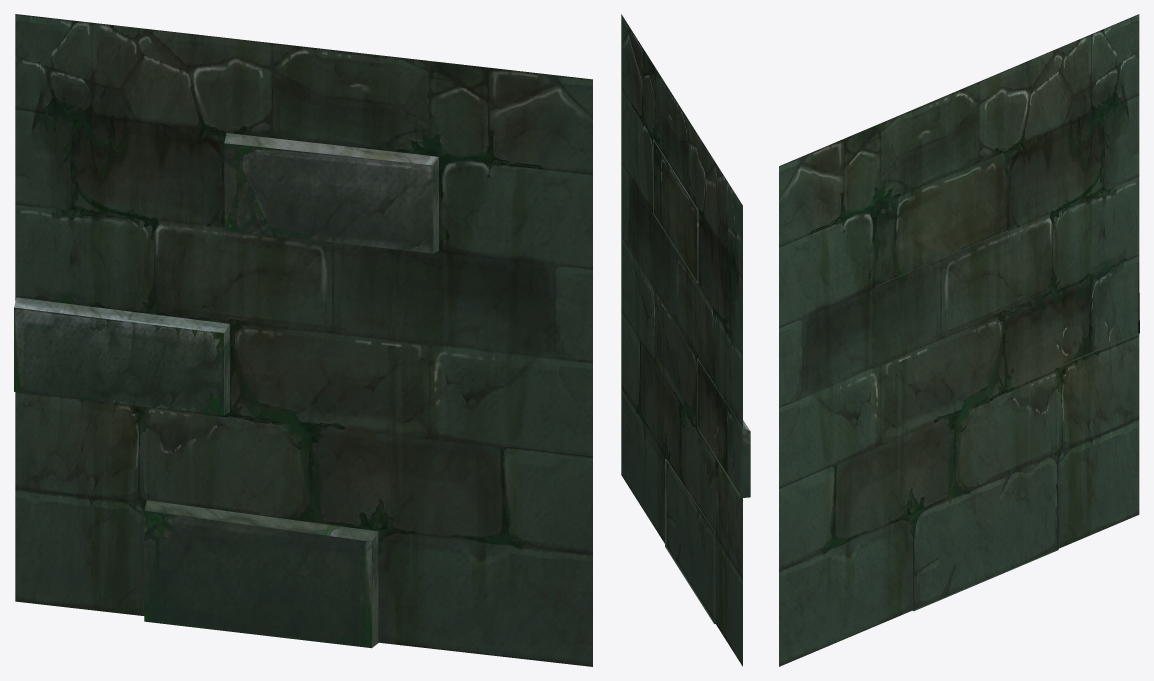
Rendered from stemple_wall_diagonal_04.fbx.
3 renders of one model, left to right at view 1: azimuth 30°, elevation 25°; view 2: azimuth 150°, elevation 25°; view 3: azimuth 270°, elevation 25°, orthographic. The views are drawn at different scales.
Visible parts, largest first — view 1: obj1.072; view 2: obj1.072; view 3: obj1.072.
Part boxes in pixels (x1,y1,x2,y2): obj1.072: (14,14,592,666); obj1.072: (621,14,750,666); obj1.072: (779,14,1139,666).
Size of the model in its own units: 3.64 by 5.51 by 3.59.
